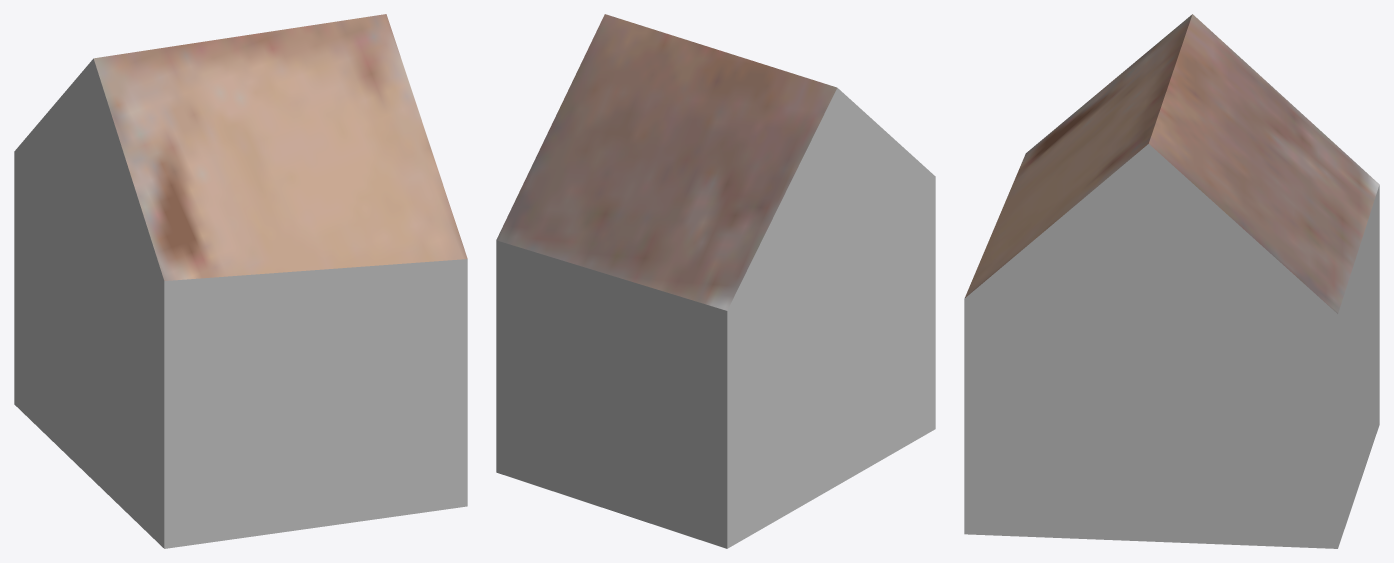
Rendered from DEBW_0010007Tx7d.gltf.
The picture shows the model from 3 angles, left to right: view 1: azimuth 30°, elevation 25°; view 2: azimuth 150°, elevation 25°; view 3: azimuth 270°, elevation 25°; orthographic projection. The views are drawn at different scales.
Parts seen in each view (by area): view 1: Z_UP; view 2: Z_UP; view 3: Z_UP.
Part boxes in pixels (<box>): Z_UP: <box>14,14,467,548</box>; Z_UP: <box>496,14,935,548</box>; Z_UP: <box>964,14,1379,548</box>.
Bounding box in the file's own units: 8.07 × 10.76 × 10.07.
2 materials, 1 textured.
